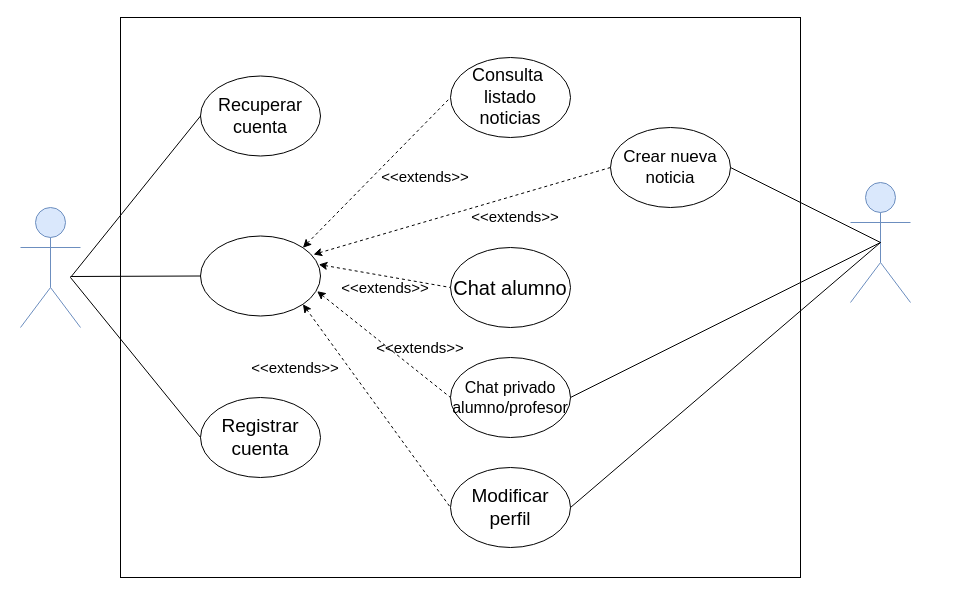
Some shapes in this 970 by 595 pixel diagram are drawn without their labels. The shapes that lost their labels are listed below. From the top down, each one's centre as x and y in pixels, then its label:
(x=880, y=242): Profesor (admin)
(x=50, y=267): Alumno
(x=260, y=275): Inicio de sesión
